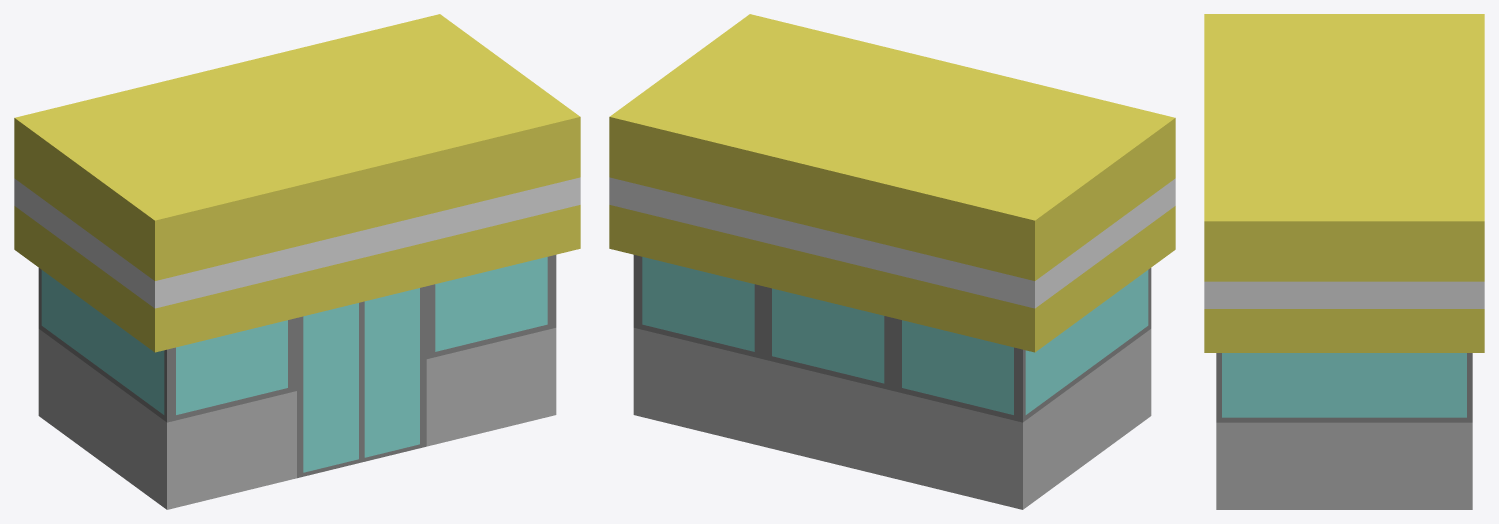
File: ConvenienceStore2.fbx
The picture shows the model from 3 angles, left to right: view 1: azimuth 30°, elevation 25°; view 2: azimuth 150°, elevation 25°; view 3: azimuth 270°, elevation 25°; orthographic projection.
Parts seen in each view (by area): view 1: Store; view 2: Store; view 3: Store.
Part boxes in pixels (bbox=[...]): Store: bbox=[14, 14, 580, 509]; Store: bbox=[609, 14, 1175, 509]; Store: bbox=[1204, 14, 1484, 509].
Bounding box in the file's own units: 1523 × 1020 × 871.
